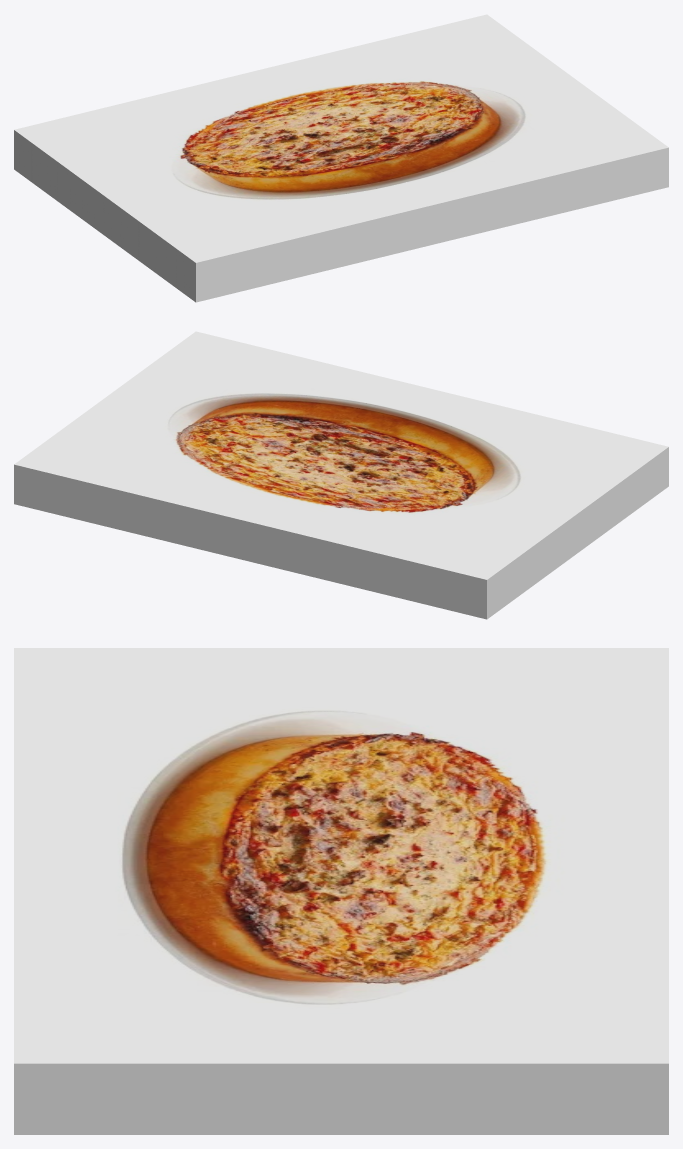
The model's file is empadaodebrocolis.glb.
3 renders of one model, top to bottom at view 1: azimuth 30°, elevation 25°; view 2: azimuth 150°, elevation 25°; view 3: azimuth 270°, elevation 25°, orthographic. The views are drawn at different scales.
Size of the model in its own units: 0.1 by 0.008 by 0.0666.
1 material, 1 textured.
